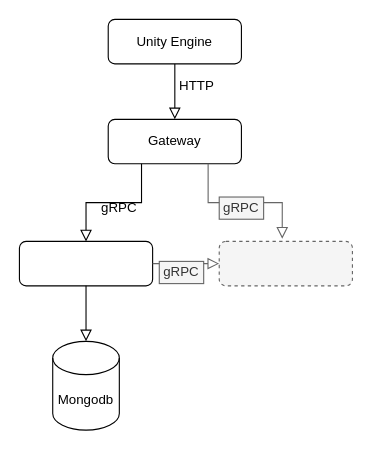
The diagram is 372 pixels wide and 450 high, and some of its shapes have lost their labels. Here are the shapes that lost their labels. From the top down, the box of each, then its label:
(18, 240, 153, 286): Games
(218, 240, 352, 286): Future Services
